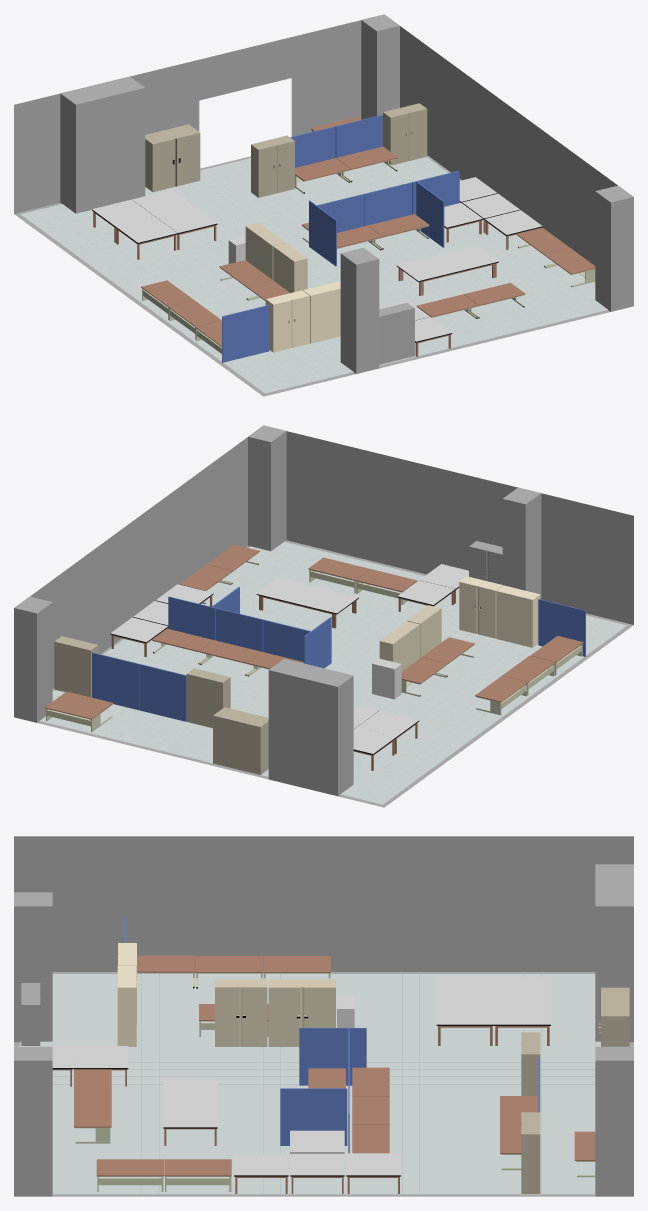
File: labroom.gltf
3 renders of one model, top to bottom at view 1: azimuth 30°, elevation 25°; view 2: azimuth 150°, elevation 25°; view 3: azimuth 270°, elevation 25°, orthographic. The views are drawn at different scales.
Visible parts, largest first — view 1: Roomplan1, Floor, Table 1.003, Locker 02.005, Table 1.004, Locker 02.004, Locker 02.003, Locker 02.007, Wall 01, Table 1.002, Locker 02.008, Plane.001 (+18 smaller); view 2: Roomplan1, Floor, Locker 02.005, Locker 02.007, Plane.006, Table 1.003, Wall 01.002, Table 1.004, Wall 01.001, Plane.003, Table 1.002, Locker 02.003 (+17 smaller); view 3: Roomplan1, Floor, Table 1.003, Table 1.004, Locker 02.002, Locker 02.001, Plane.007, Plane.003, Wall 01.007, Wall 01.006, Table 1.002, Plane.006 (+13 smaller).
Boxes of the visible parts, x1,y1,x2,y2 form: Roomplan1: (14,14,633,396); Floor: (21,157,607,393); Table 1.003: (92,190,217,259); Locker 02.005: (145,124,200,191); Table 1.004: (459,177,542,249); Locker 02.004: (251,135,294,197); Locker 02.003: (383,103,427,165); Locker 02.007: (265,290,309,352); Wall 01: (222,305,269,362); Table 1.002: (396,245,498,295); Locker 02.008: (379,302,414,364); Plane.001: (141,280,221,339); Roomplan1: (14,425,633,807); Floor: (40,541,626,804); Locker 02.005: (213,707,268,774); Locker 02.007: (496,585,540,647); Plane.006: (308,557,417,604); Table 1.003: (353,704,419,770); Wall 01.002: (139,664,186,721); Table 1.004: (110,584,213,656); Wall 01.001: (92,652,139,710); Plane.003: (152,628,303,676); Table 1.002: (256,578,358,628); Locker 02.003: (54,636,98,697); Roomplan1: (14,836,633,1196); Floor: (20,974,600,1194); Table 1.003: (436,976,550,1045); Table 1.004: (234,1153,400,1193); Locker 02.002: (268,979,335,1046); Locker 02.001: (215,979,267,1046); Plane.007: (96,1159,231,1191); Plane.003: (352,1067,389,1153); Wall 01.007: (280,1088,347,1145); Wall 01.006: (299,1028,366,1085); Table 1.002: (163,1078,217,1145); Plane.006: (74,1069,111,1143).
Size of the model in its own units: 9.46 by 2.67 by 11.04.
